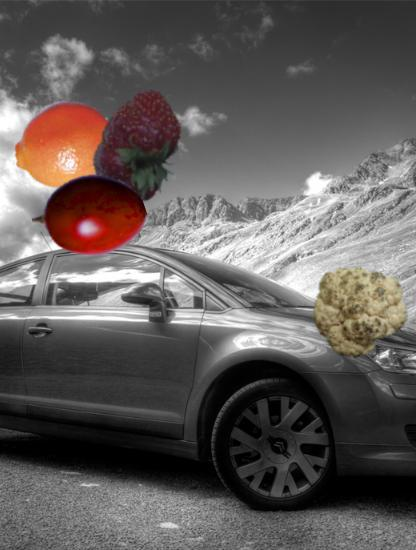Cauliflower: (311, 262, 409, 360)
Strawberry: (81, 89, 201, 209)
Tamarillo: (34, 161, 146, 273)
Tangelo: (13, 96, 115, 198)
